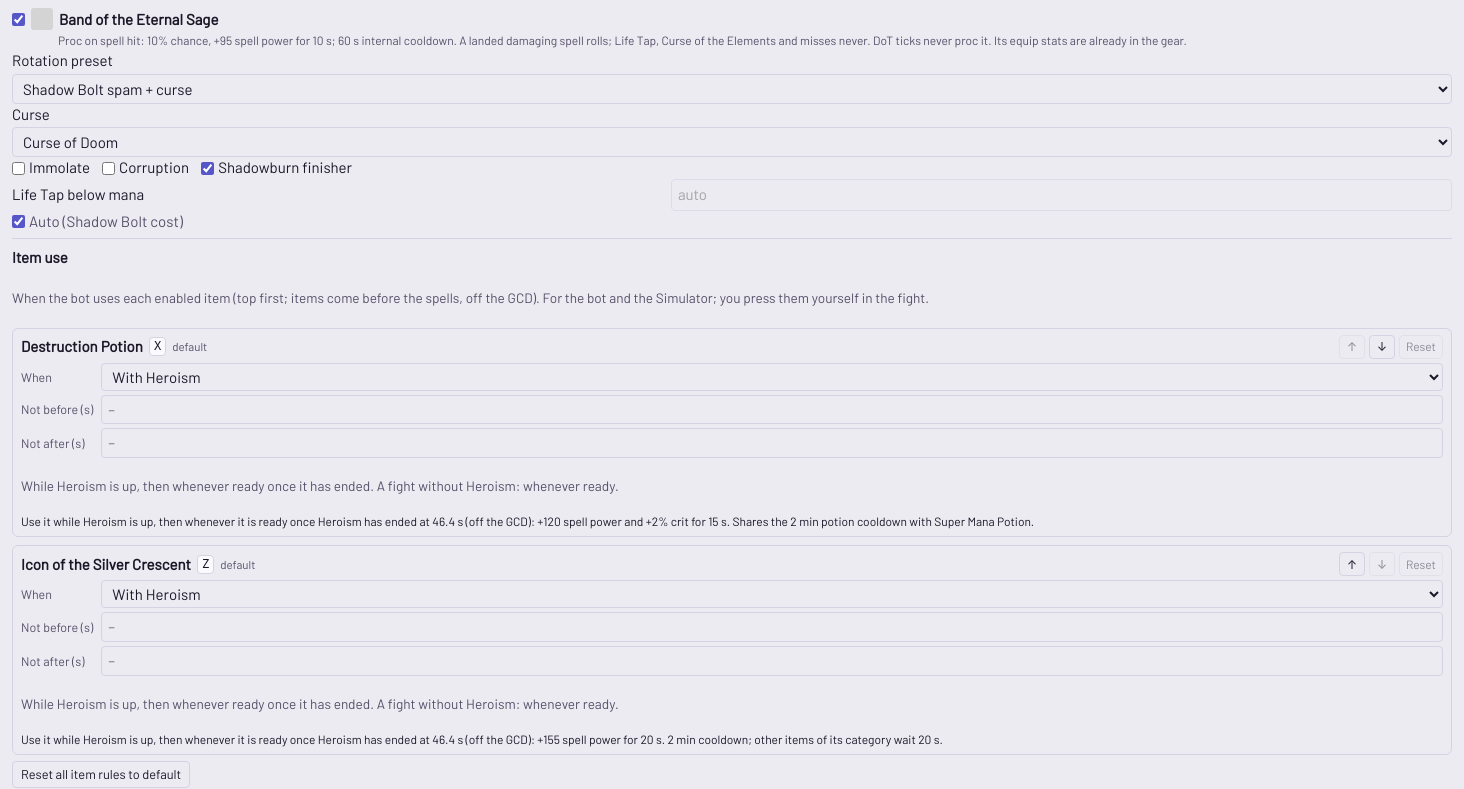
Test: ItemUseEditor › move up/down changes the order; back to the default order removes it (the preset still matches)
(page scrolled)
expect the button named "Move Destruction Potion up" is disabled: met, box [1339, 335, 1365, 359]
Click the 2nd button "↑" at {"x": 1352, "y": 564}, box [1339, 552, 1365, 576]
(page scrolled)
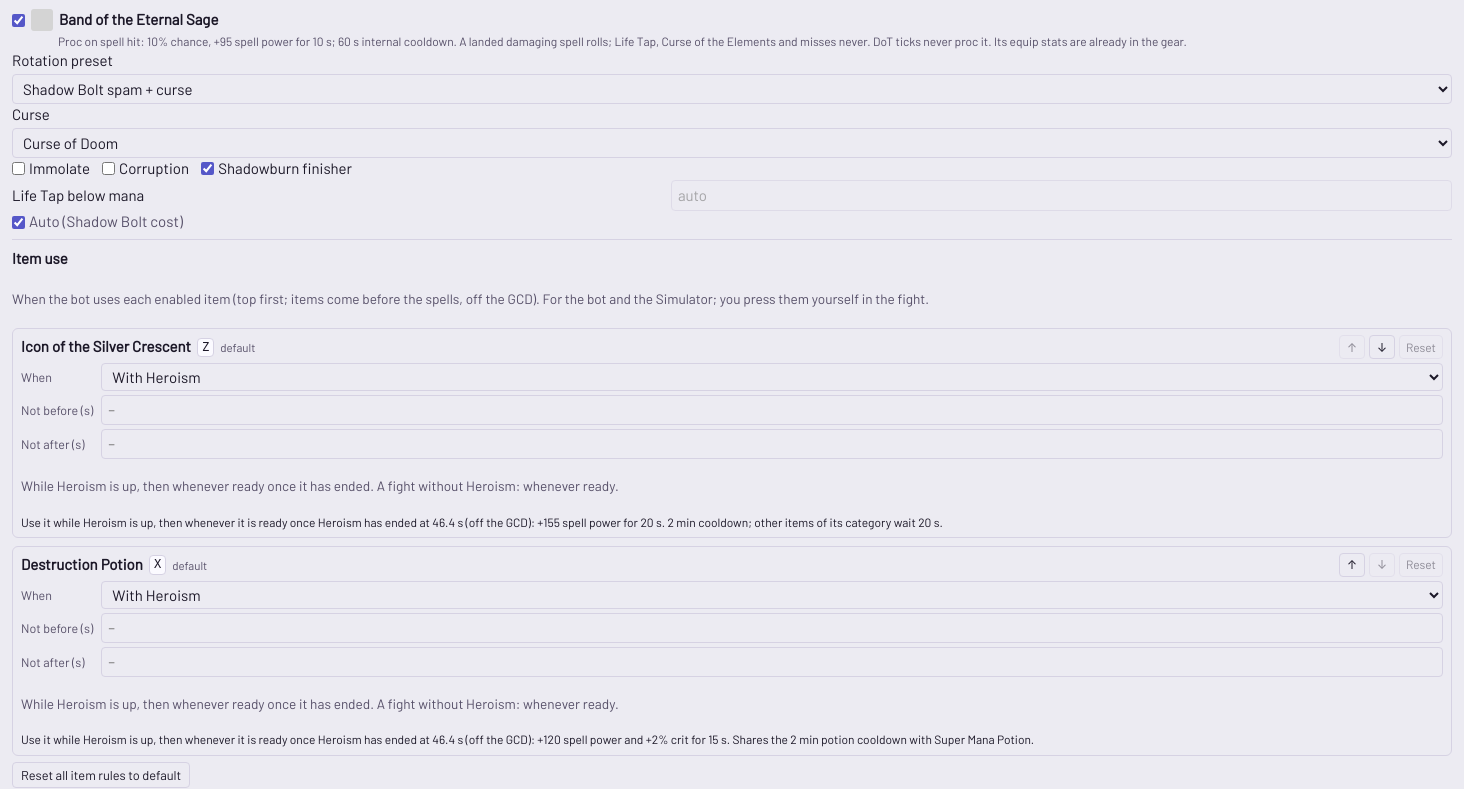
Click the 1st button "↓" at {"x": 1382, "y": 347}, box [1369, 335, 1395, 359]
(page scrolled)
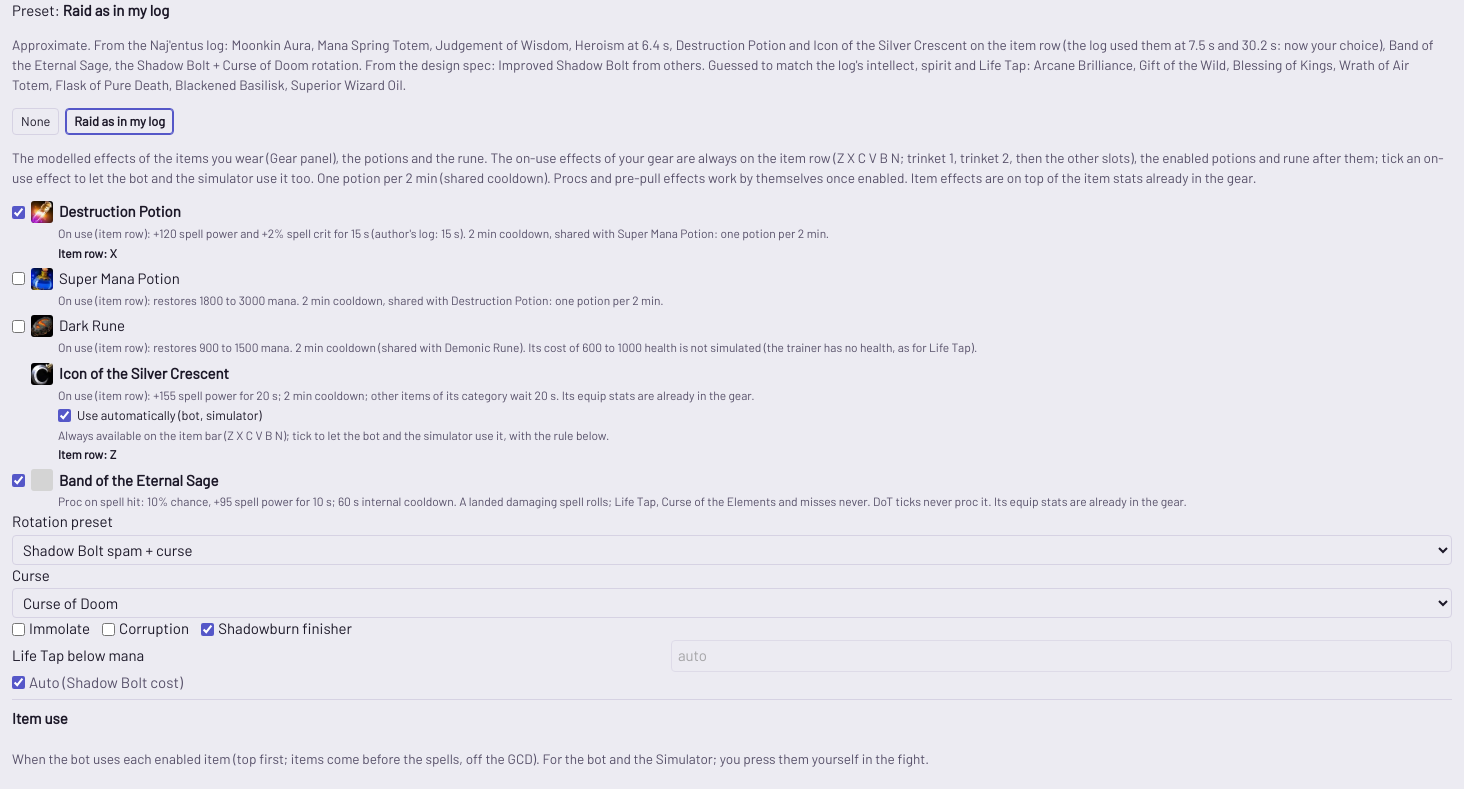
expect the text named "Active preset" reads "Raid as in my log": met, box [63, 1, 169, 19]
